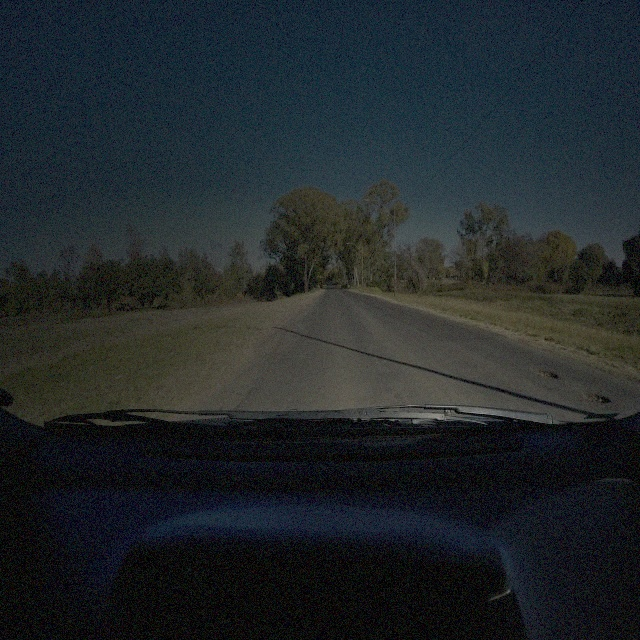pothole: (577, 385, 614, 409), (533, 364, 561, 383)
